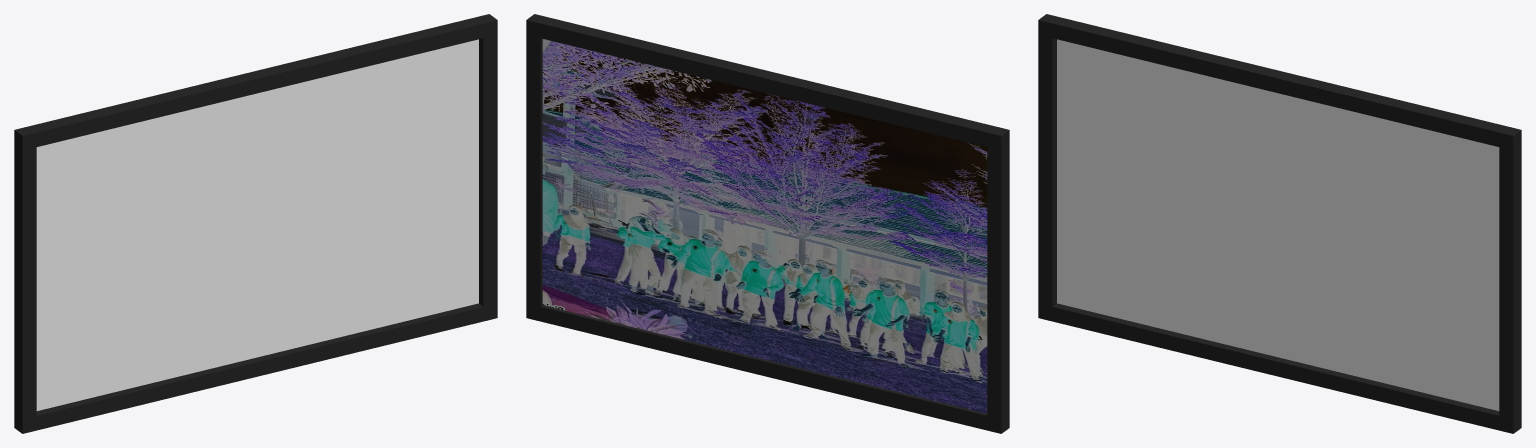
File: lukisannew2.fbx
The picture shows the model from 3 angles, left to right: view 1: azimuth 30°, elevation 25°; view 2: azimuth 150°, elevation 25°; view 3: azimuth 330°, elevation 25°; orthographic projection.
Visible parts, largest first — view 1: Painting Number 7; view 2: Painting Number 7; view 3: Painting Number 7.
Boxes of the visible parts, box(x1,y1,x2,y2) form: Painting Number 7: box(14, 14, 497, 433); Painting Number 7: box(526, 14, 1009, 433); Painting Number 7: box(1038, 14, 1521, 433).
Bounding box in the file's own units: 50.01 × 30 × 1.5.
